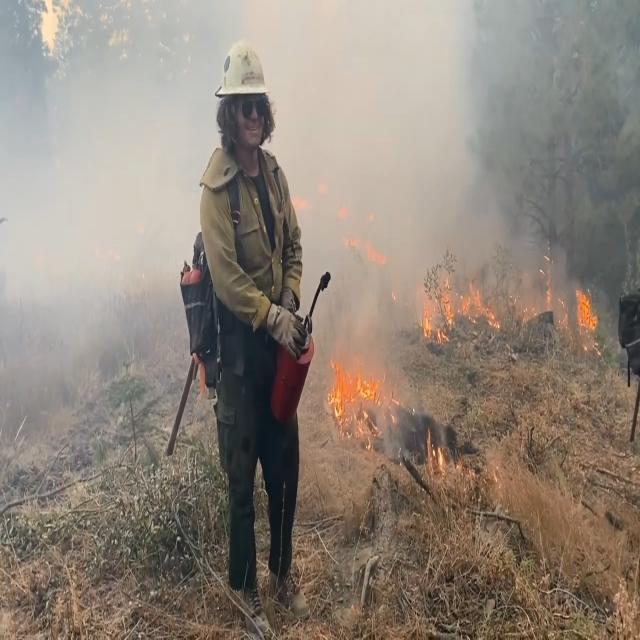Fire: (318, 332, 424, 440)
